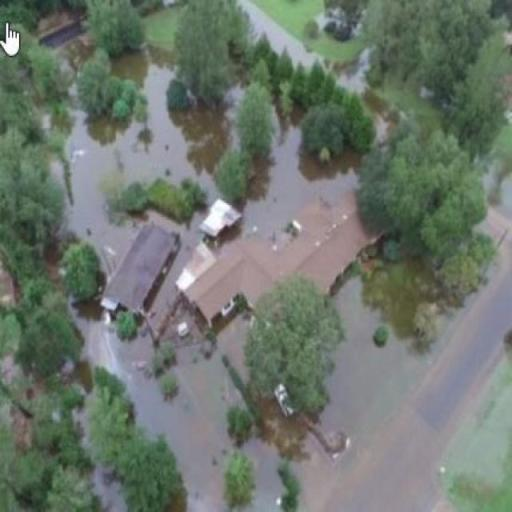flood: (73, 179, 512, 512), (69, 62, 232, 272), (212, 124, 356, 256), (337, 48, 397, 143), (238, 0, 323, 67), (111, 45, 173, 87)
house: (174, 234, 285, 328), (100, 224, 180, 330), (198, 200, 242, 240)
